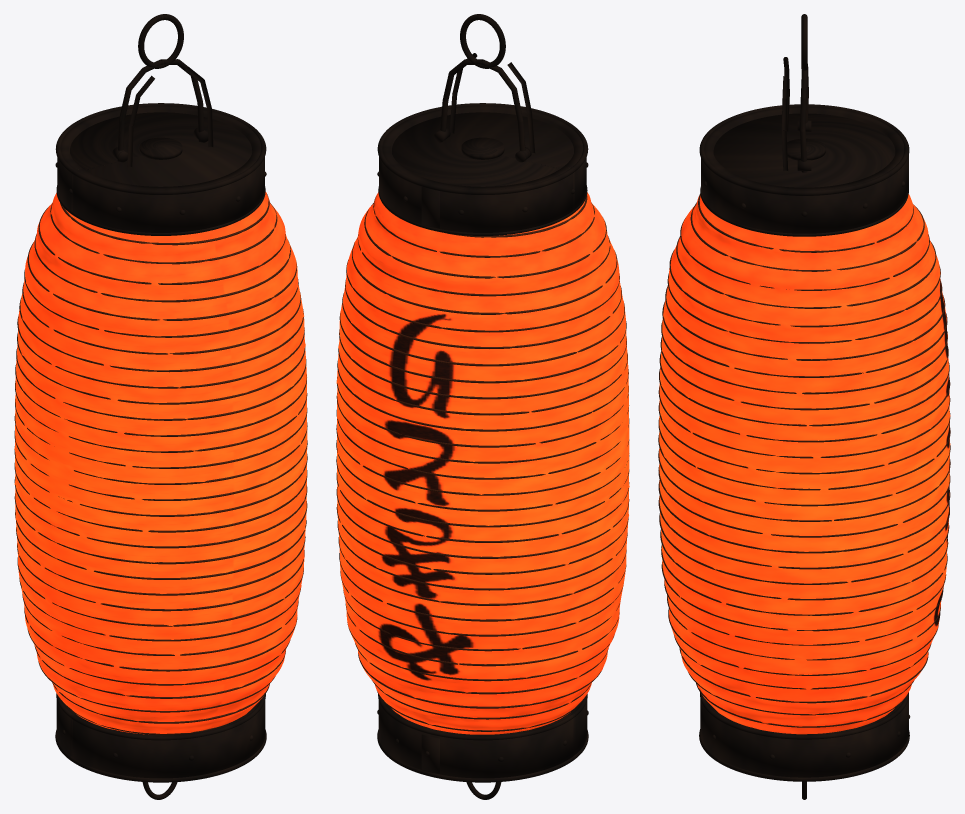
File: japanese_yakitori_lantern.glb
3 renders of one model, left to right at view 1: azimuth 30°, elevation 25°; view 2: azimuth 150°, elevation 25°; view 3: azimuth 270°, elevation 25°, orthographic.
Visible parts, largest first — view 1: Paper_Washi, Aged_Blackened_Metal_Hardware, Bamboo_Spiral_Rib; view 2: Paper_Washi, Aged_Blackened_Metal_Hardware, Bamboo_Spiral_Rib; view 3: Paper_Washi, Aged_Blackened_Metal_Hardware, Bamboo_Spiral_Rib.
Boxes of the visible parts, left/top/right/bottom form: Paper_Washi: left=14, top=192, right=307, bottom=734; Aged_Blackened_Metal_Hardware: left=55, top=14, right=266, bottom=799; Bamboo_Spiral_Rib: left=14, top=194, right=307, bottom=734; Paper_Washi: left=336, top=192, right=629, bottom=734; Aged_Blackened_Metal_Hardware: left=377, top=14, right=588, bottom=799; Bamboo_Spiral_Rib: left=336, top=196, right=629, bottom=731; Paper_Washi: left=659, top=194, right=950, bottom=734; Aged_Blackened_Metal_Hardware: left=699, top=14, right=910, bottom=799; Bamboo_Spiral_Rib: left=658, top=194, right=950, bottom=727.
Bounding box in the file's own units: 0.3445 × 1.02 × 0.3442.
Materials: 4 (3 with a texture image).
